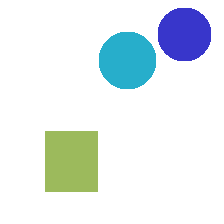circle: (99, 32, 155, 88), (158, 8, 210, 60)
rectangle: (45, 131, 97, 191)
